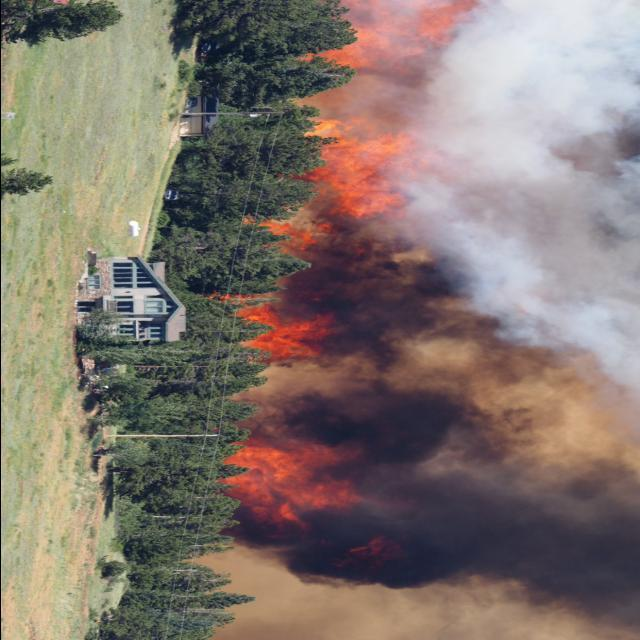Fire: (238, 1, 476, 557)
